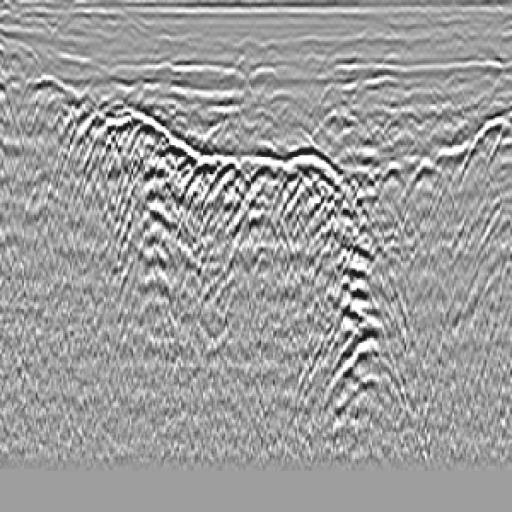metalic: (197, 114, 334, 309)
